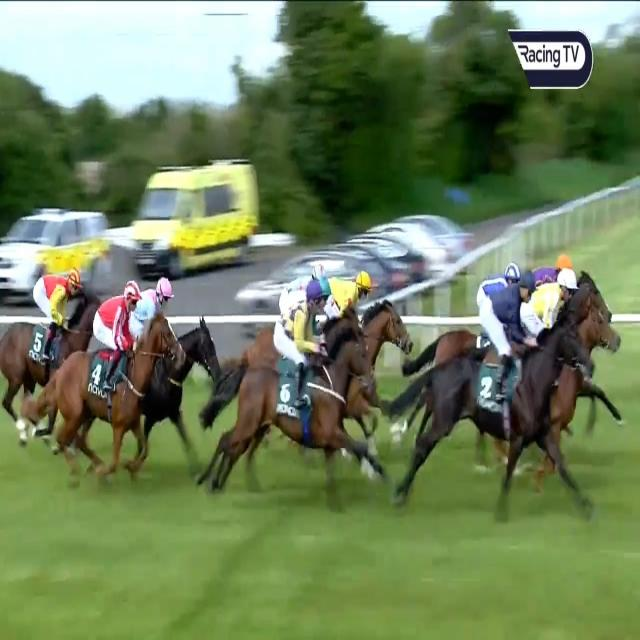horses-racing: (414, 270, 616, 510), (220, 284, 382, 490), (32, 280, 188, 476), (127, 270, 221, 458), (2, 267, 94, 390), (244, 281, 367, 365), (322, 268, 416, 366), (526, 265, 583, 348), (253, 266, 336, 308), (520, 246, 584, 286), (470, 260, 520, 293)
